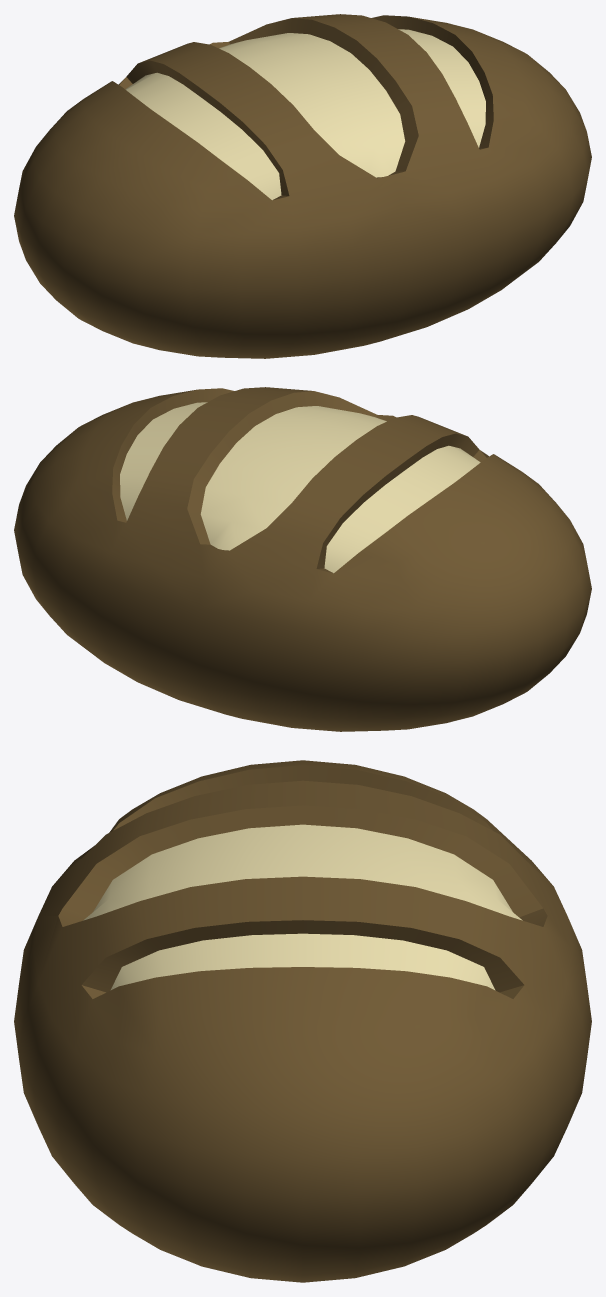
The model's file is Bread.fbx.
3 views of the same model, one above another, from view 1: azimuth 30°, elevation 25°; view 2: azimuth 150°, elevation 25°; view 3: azimuth 270°, elevation 25° (orthographic). The views are drawn at different scales.
Parts seen in each view (by area): view 1: pCube1; view 2: pCube1; view 3: pCube1.
Part boxes in pixels (x1=…): pCube1: x1=14, y1=14, x2=591, y2=358; pCube1: x1=14, y1=387, x2=591, y2=731; pCube1: x1=14, y1=760, x2=591, y2=1282.
Size of the model in its own units: 0.541 by 0.2618 by 0.3767.
